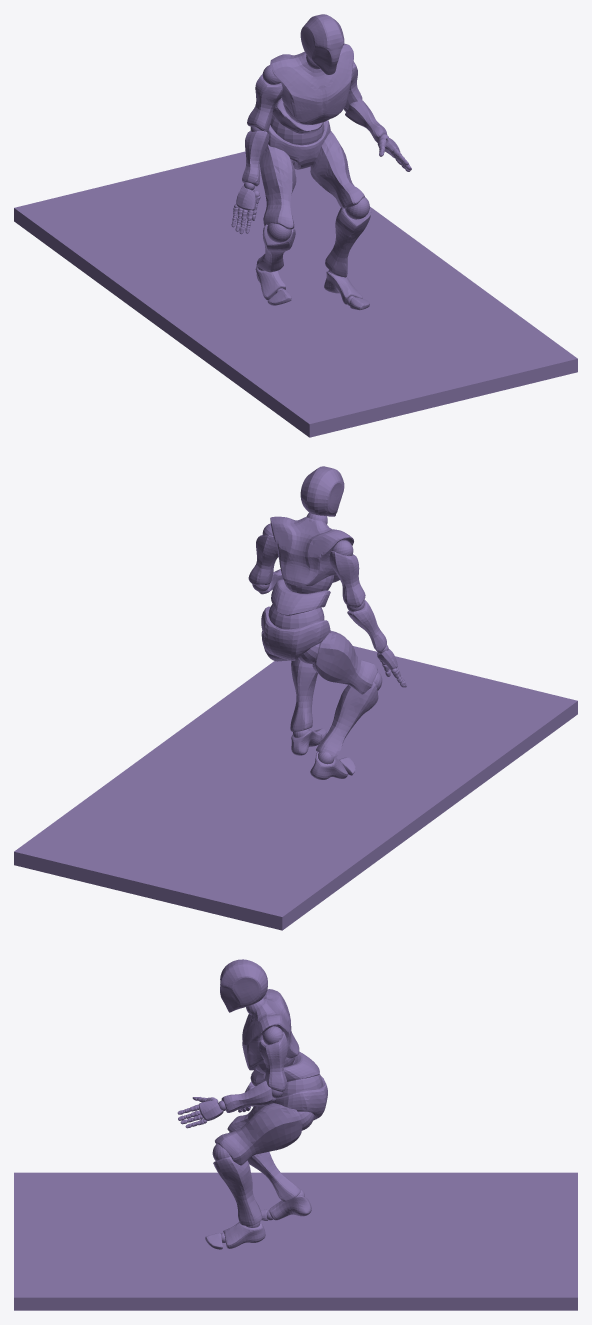
File: hoverboard-standing.glb
3 views of the same model, one above another, from view 1: azimuth 30°, elevation 25°; view 2: azimuth 150°, elevation 25°; view 3: azimuth 270°, elevation 25° (orthographic). The views are drawn at different scales.
Parts seen in each view (by area): view 1: xier120.hoverboard-standing.mesh.001, xier120.hoverboard-standing.mesh.002, xier120.hoverboard-standing.mesh.000; view 2: xier120.hoverboard-standing.mesh.001, xier120.hoverboard-standing.mesh.002, xier120.hoverboard-standing.mesh.000; view 3: xier120.hoverboard-standing.mesh.001, xier120.hoverboard-standing.mesh.002, xier120.hoverboard-standing.mesh.000.
Part boxes in pixels (box(x1,y1,x2,y2)): xier120.hoverboard-standing.mesh.001: box(14, 151, 577, 437); xier120.hoverboard-standing.mesh.002: box(231, 14, 411, 310); xier120.hoverboard-standing.mesh.000: box(232, 55, 405, 305); xier120.hoverboard-standing.mesh.001: box(14, 646, 577, 930); xier120.hoverboard-standing.mesh.002: box(248, 466, 406, 779); xier120.hoverboard-standing.mesh.000: box(252, 513, 404, 764); xier120.hoverboard-standing.mesh.001: box(14, 1172, 577, 1310); xier120.hoverboard-standing.mesh.002: box(177, 959, 327, 1249); xier120.hoverboard-standing.mesh.000: box(182, 998, 322, 1242).
Size of the model in its own units: 1.48 by 1.58 by 2.82.
